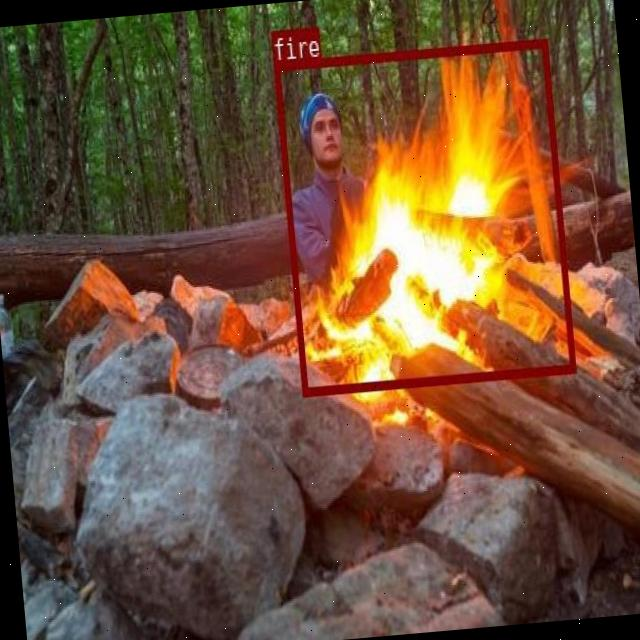fire: (272, 37, 574, 394)
